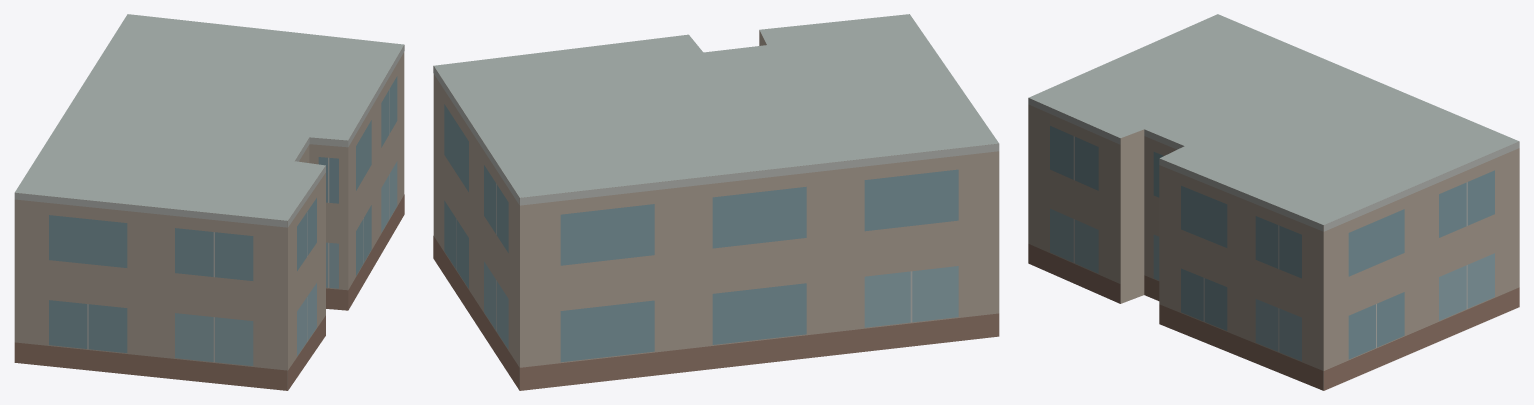
Rendered from survey-upis-32752093.glb.
3 views of the same model, side by side, from view 1: azimuth 30°, elevation 25°; view 2: azimuth 150°, elevation 25°; view 3: azimuth 270°, elevation 25° (orthographic). The views are drawn at different scales.
Parts seen in each view (by area): view 1: survey-upis-32752093.tmp; view 2: survey-upis-32752093.tmp; view 3: survey-upis-32752093.tmp.
Part boxes in pixels (x1=…): survey-upis-32752093.tmp: x1=14, y1=14, x2=404, y2=390; survey-upis-32752093.tmp: x1=433, y1=14, x2=999, y2=390; survey-upis-32752093.tmp: x1=1028, y1=14, x2=1519, y2=390.
Size of the model in its own units: 16.68 by 6.1 by 16.39.
